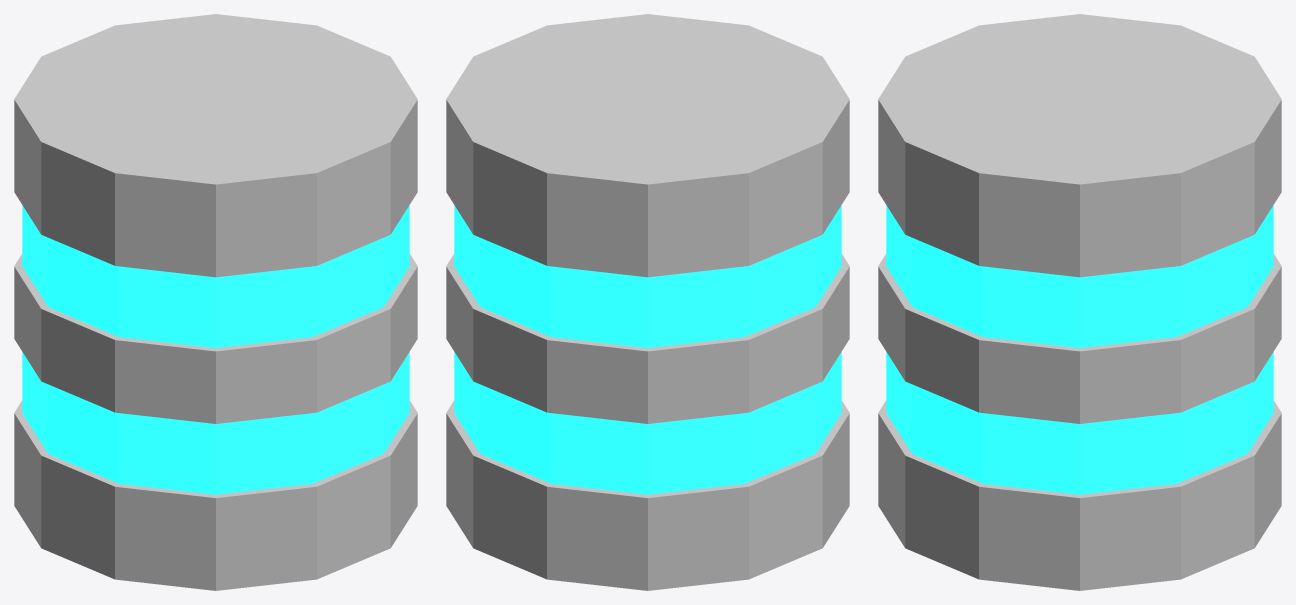
3 views of the same model, side by side, from view 1: azimuth 30°, elevation 25°; view 2: azimuth 150°, elevation 25°; view 3: azimuth 270°, elevation 25° (orthographic).
Visible parts, largest first — view 1: Tube_0.9_0.9_1_mesh; view 2: Tube_0.9_0.9_1_mesh; view 3: Tube_0.9_0.9_1_mesh.
Part boxes in pixels (x1,y1,x2,y2): Tube_0.9_0.9_1_mesh: (14,14,417,590); Tube_0.9_0.9_1_mesh: (446,14,849,590); Tube_0.9_0.9_1_mesh: (878,14,1281,590).
Size of what is drawn, in the model's own units: 0.9 by 1 by 0.9.
